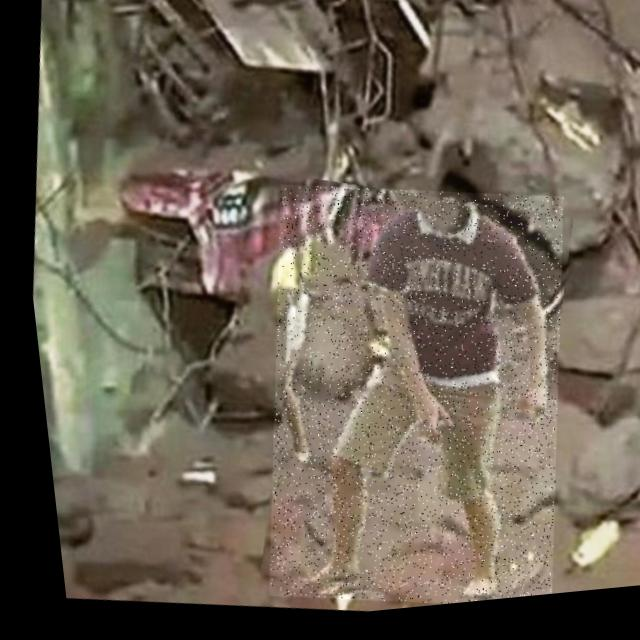Person in Rubble: (219, 168, 592, 625)
